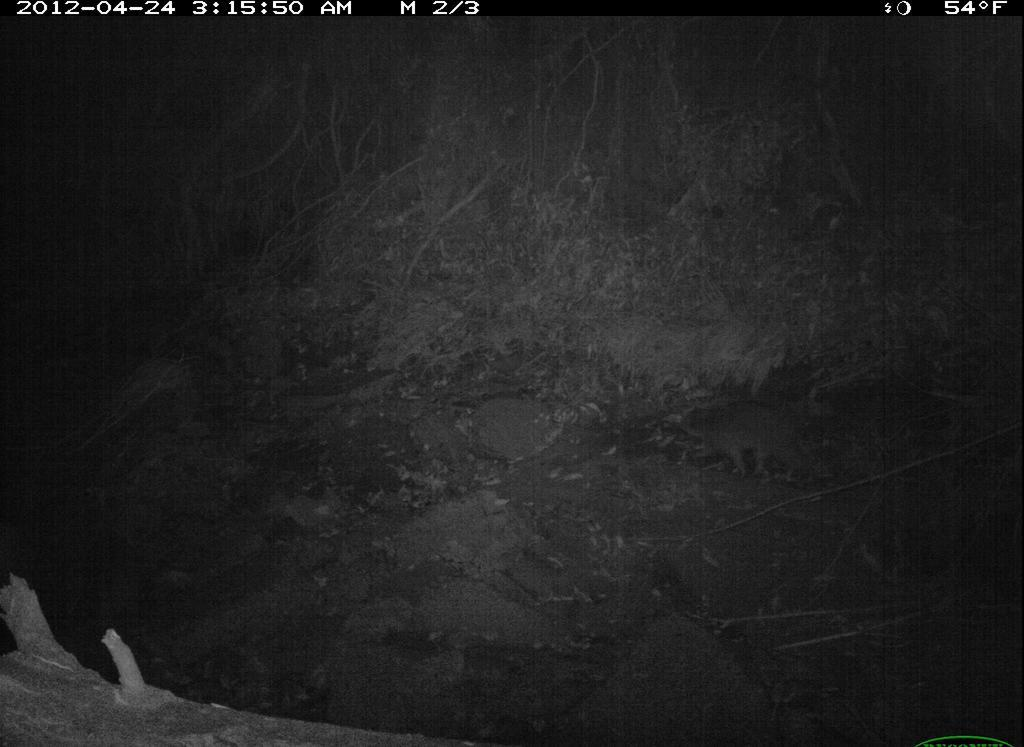raccoon: (678, 395, 838, 491)
